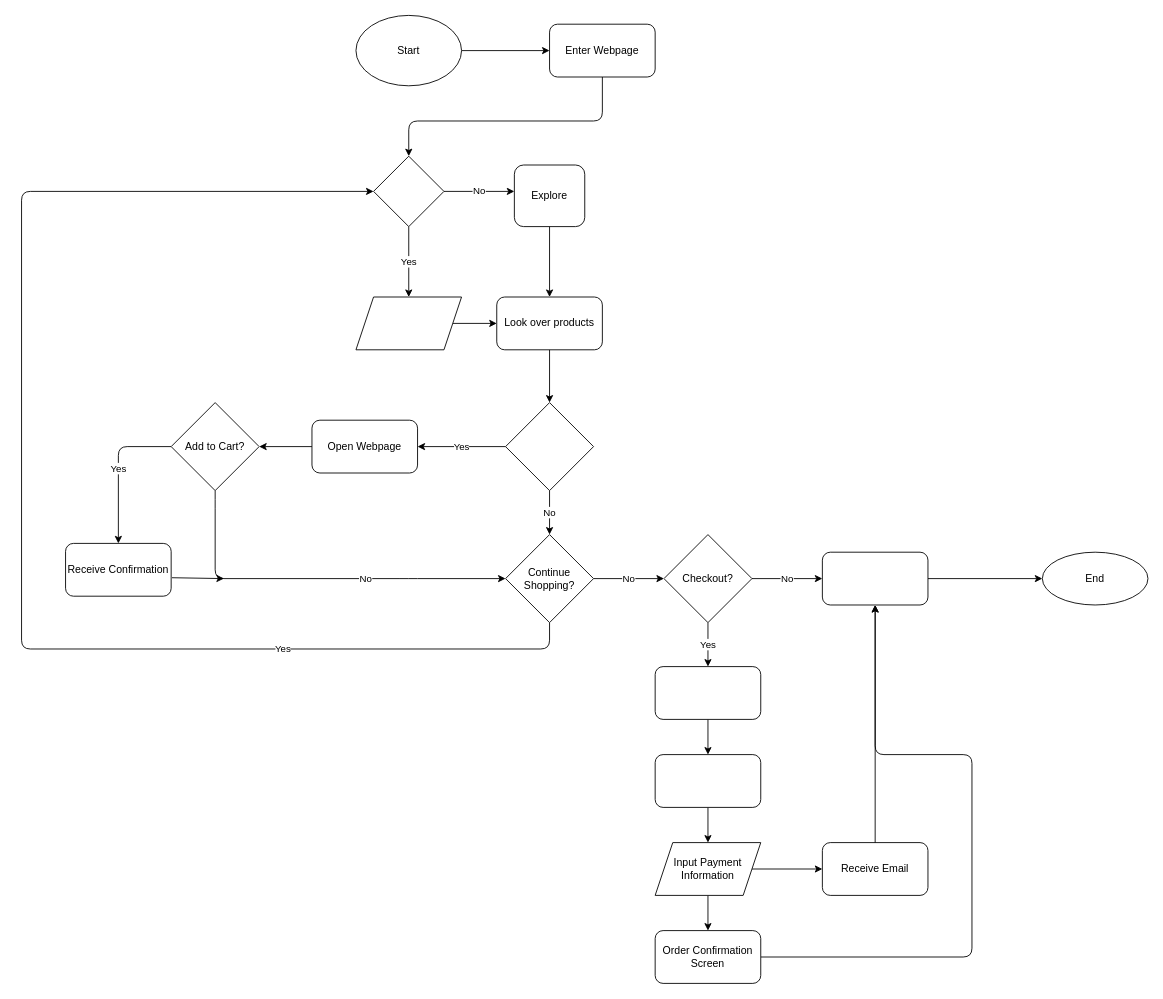
Some shapes in this 1163 by 999 pixel diagram are drawn without their labels. The centre of each missing label's shape, as x and y in pixels:
"Input Product" belongs at point (408, 323).
"Leave Website" belongs at point (874, 578).
"Search?" belongs at point (408, 191).
"View Checkout" belongs at point (707, 692).
"View Payment" belongs at point (707, 780).
"View specific iitem?" belongs at point (549, 446).
